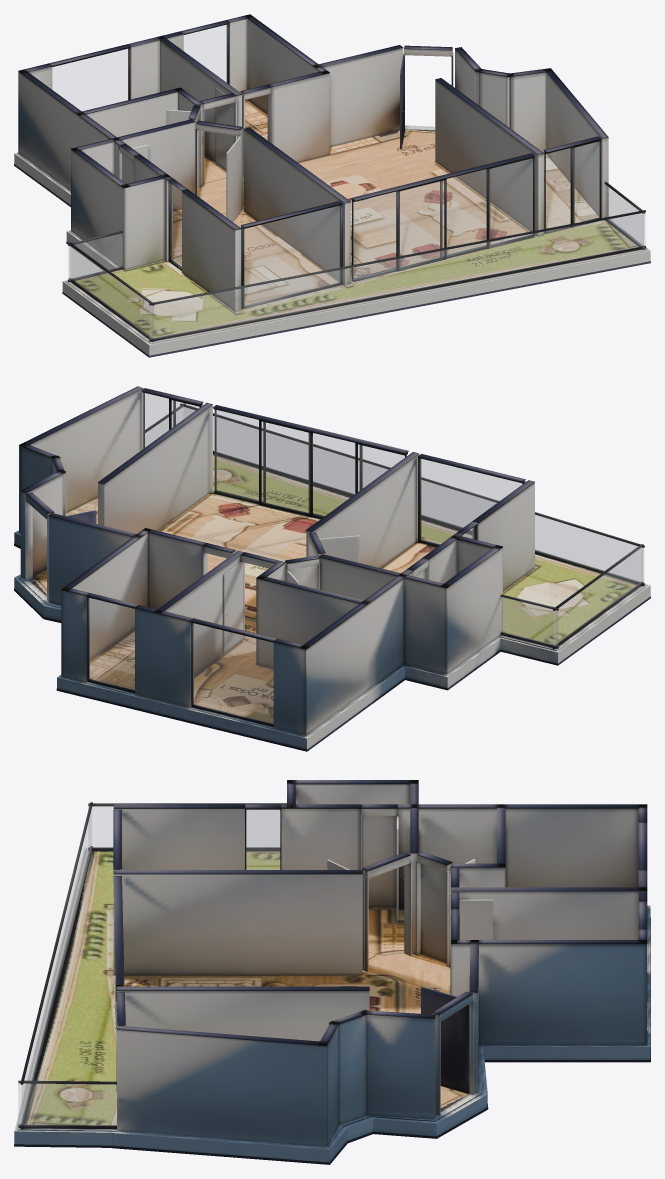
3 views of the same model, one above another, from view 1: azimuth 30°, elevation 25°; view 2: azimuth 150°, elevation 25°; view 3: azimuth 270°, elevation 25° (orthographic). The views are drawn at different scales.
Visible parts, largest first — view 1: plan, railg2_m, glass4_m, glass3_m, glass5_m, glass0_m, railg3_m, railg0_m, glass1_m, railg1_m, glass2_m; view 2: plan, glass4_m, railg2_m, glass0_m, glass3_m, glass1_m, railg3_m, railg0_m, glass5_m; view 3: plan, railg1_m, railg2_m, railg3_m, glass2_m.
Part boxes in pixels (left/top/right/bottom): plan: left=14, top=14, right=650, bottom=357; railg2_m: left=149, top=213, right=645, bottom=338; glass4_m: left=353, top=158, right=532, bottom=279; glass3_m: left=244, top=206, right=340, bottom=305; glass5_m: left=545, top=142, right=599, bottom=228; glass0_m: left=52, top=49, right=128, bottom=110; railg3_m: left=70, top=246, right=153, bottom=338; railg0_m: left=68, top=233, right=122, bottom=279; glass1_m: left=184, top=25, right=227, bottom=82; railg1_m: left=606, top=185, right=643, bottom=246; glass2_m: left=171, top=184, right=181, bottom=267; plan: left=14, top=386, right=650, bottom=751; glass4_m: left=214, top=410, right=404, bottom=516; railg2_m: left=184, top=407, right=643, bottom=582; glass0_m: left=193, top=623, right=273, bottom=723; glass3_m: left=421, top=459, right=521, bottom=544; glass1_m: left=89, top=598, right=134, bottom=690; railg3_m: left=554, top=548, right=642, bottom=645; railg0_m: left=501, top=597, right=558, bottom=645; glass5_m: left=143, top=393, right=199, bottom=448; plan: left=14, top=780, right=650, bottom=1164; railg1_m: left=18, top=1083, right=116, bottom=1125; railg2_m: left=22, top=810, right=91, bottom=1123; railg3_m: left=88, top=806, right=279, bottom=847; glass2_m: left=246, top=810, right=279, bottom=869.
Size of the model in its own units: 14.49 by 2.62 by 12.91.
Materials: 2 (1 with a texture image).
